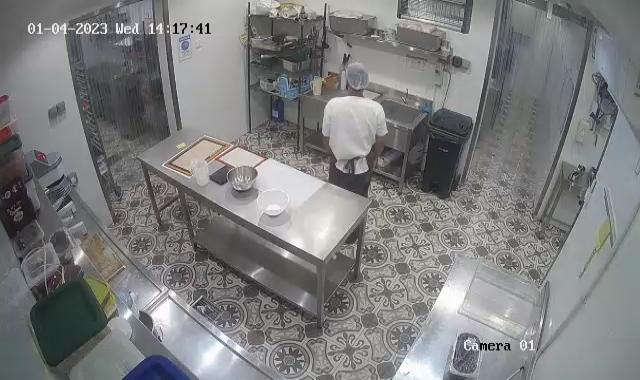hairnet: (343, 61, 368, 91)
